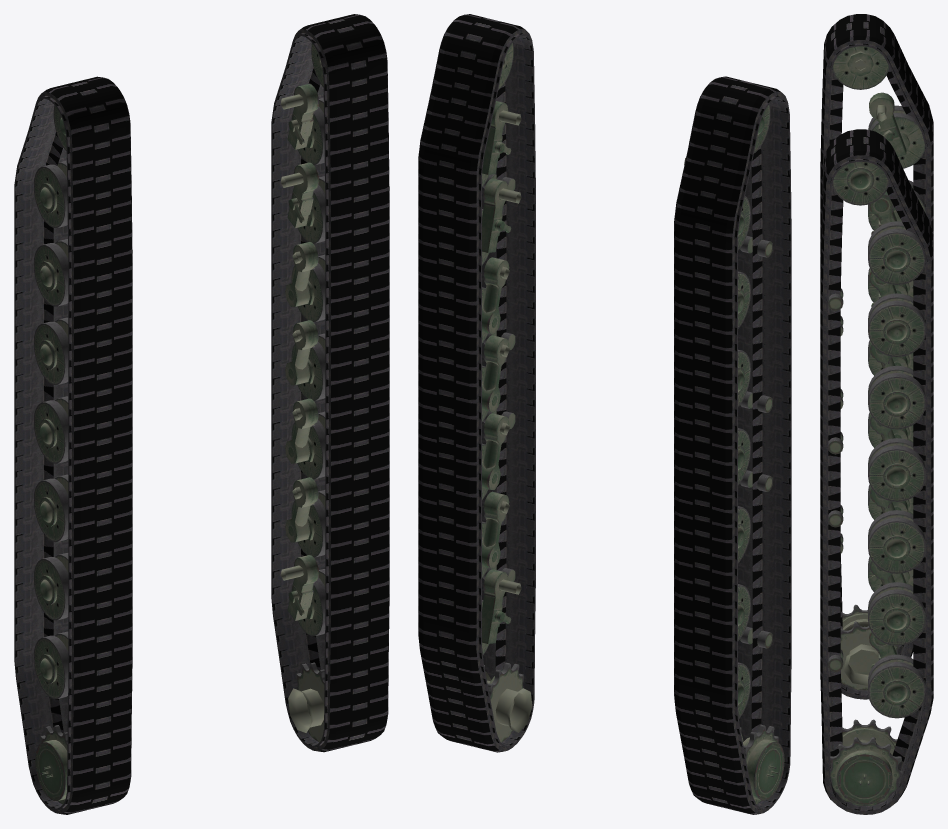
Rendered from Chassis.glb.
3 renders of one model, left to right at view 1: azimuth 30°, elevation 25°; view 2: azimuth 150°, elevation 25°; view 3: azimuth 270°, elevation 25°, orthographic. The views are drawn at different scales.
Visible parts, largest first — view 1: set_3_group_0, set_2_group_0, set_0_group_0, set_1_group_0; view 2: set_3_group_0, set_2_group_0, set_0_group_0, set_1_group_0; view 3: set_0_group_0, set_2_group_0, set_1_group_0, set_3_group_0.
Boxes of the visible parts, x1,y1,x2,y2 form: set_3_group_0: [14, 76, 132, 814]; set_2_group_0: [271, 14, 389, 752]; set_0_group_0: [280, 43, 325, 742]; set_1_group_0: [34, 105, 68, 804]; set_3_group_0: [674, 76, 791, 814]; set_2_group_0: [418, 14, 535, 752]; set_0_group_0: [482, 43, 532, 742]; set_1_group_0: [684, 104, 784, 804]; set_0_group_0: [828, 162, 925, 805]; set_2_group_0: [820, 129, 933, 814]; set_1_group_0: [832, 46, 925, 690]; set_3_group_0: [820, 14, 933, 699].
Bounding box in the file's own units: 3.46 × 7.21 × 1.12.
4 materials, 4 textured.
